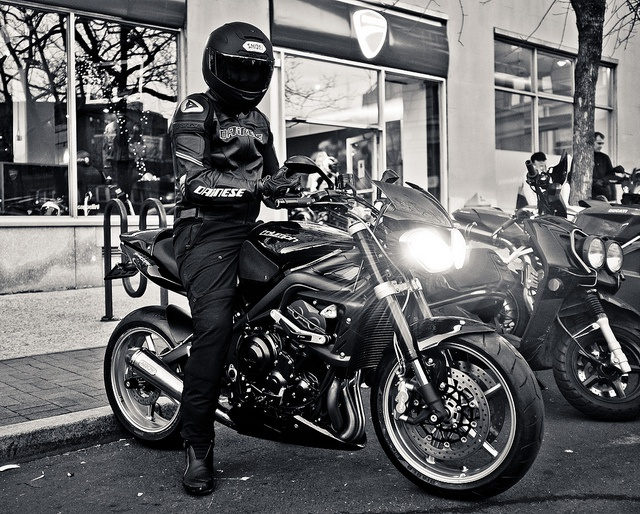non-vehicle: (101, 157, 545, 502), (429, 210, 639, 419)
